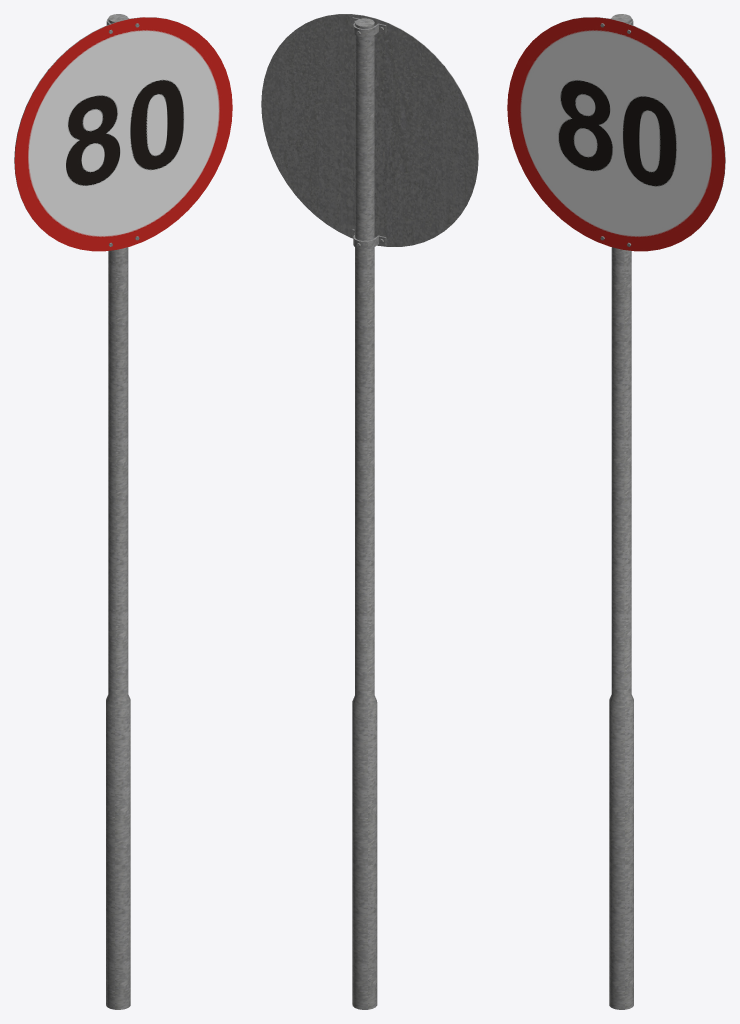
Rendered from Driving_Sim_Model_SpeedSign80.fbx.
3 renders of one model, left to right at view 1: azimuth 30°, elevation 25°; view 2: azimuth 150°, elevation 25°; view 3: azimuth 330°, elevation 25°, orthographic.
Parts seen in each view (by area): view 1: sign-034, mast-034; view 2: sign-034, mast-034; view 3: sign-034, mast-034.
Boxes of the visible parts, box(x1,y1,x2,y2) form: sign-034: box(14, 17, 232, 251); mast-034: box(106, 14, 130, 1009); sign-034: box(261, 14, 478, 246); mast-034: box(352, 18, 377, 1009); sign-034: box(507, 17, 725, 251); mast-034: box(609, 14, 633, 1009).
Size of the model in its own units: 0.6 by 2.6 by 0.0619.
